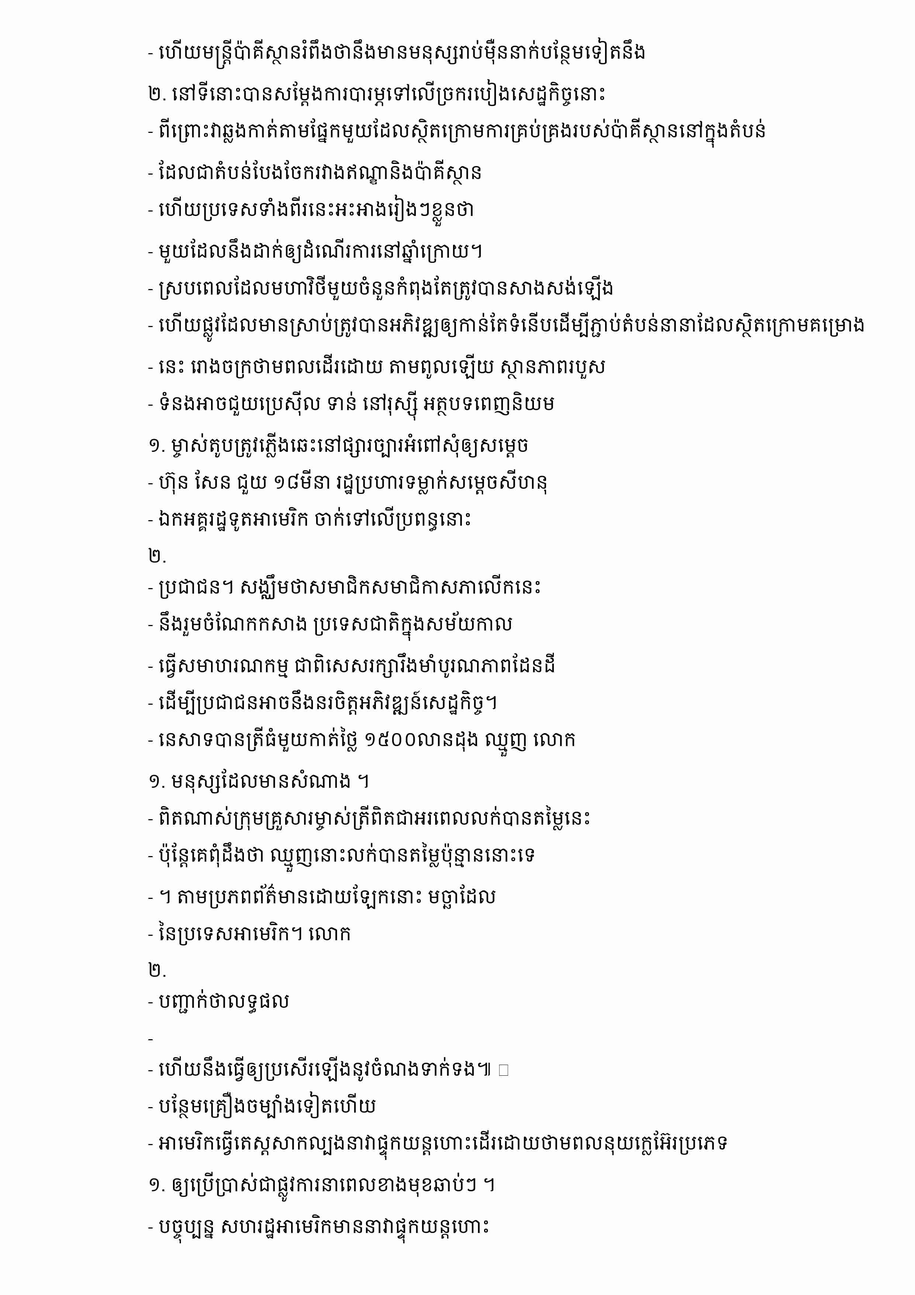text: (148, 312, 870, 342), (148, 118, 772, 148), (148, 1130, 733, 1160), (148, 37, 652, 69), (148, 726, 581, 757), (148, 79, 611, 106), (148, 391, 560, 421), (148, 842, 541, 872), (148, 275, 619, 300), (148, 805, 596, 831), (148, 354, 611, 379), (148, 611, 518, 641), (148, 195, 480, 227), (148, 1172, 501, 1202), (148, 469, 553, 495), (148, 1214, 495, 1244), (148, 574, 546, 600), (148, 653, 561, 678), (148, 432, 534, 458), (148, 1056, 515, 1082), (148, 883, 501, 909), (148, 690, 503, 715), (148, 159, 488, 185), (148, 238, 488, 264), (148, 506, 477, 532), (148, 1091, 381, 1119), (148, 769, 375, 794), (148, 921, 357, 946), (148, 989, 295, 1014), (148, 548, 172, 563), (148, 962, 172, 977), (148, 1039, 158, 1045)
